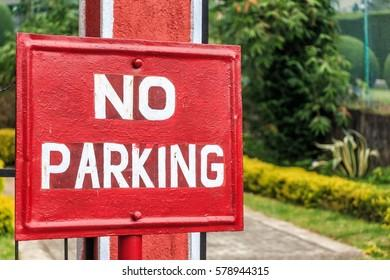No Parking: (25, 69, 239, 207)
